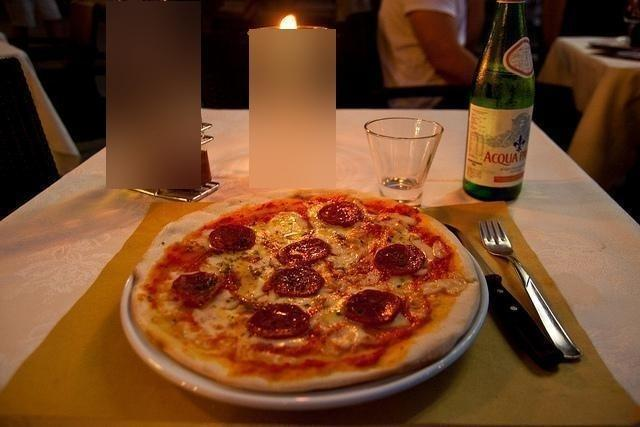bottle-glass: (463, 1, 534, 198)
glass-normal: (364, 117, 444, 206)
